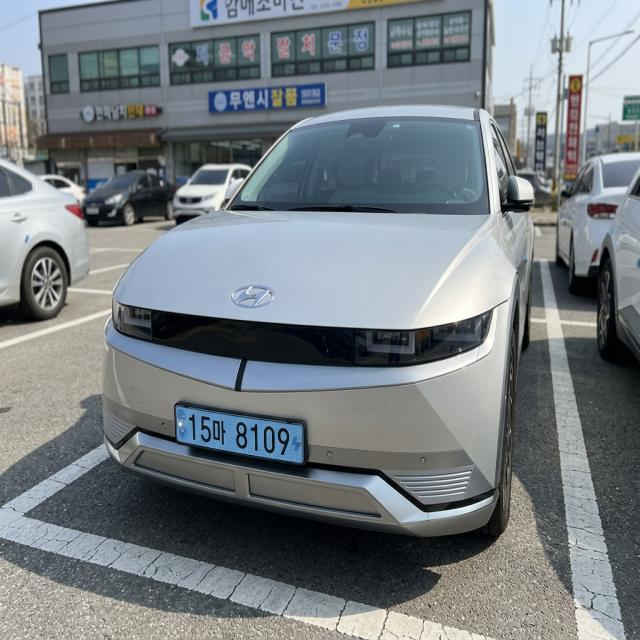car: (161, 396, 323, 476)
carev: (290, 419, 305, 463), (177, 404, 189, 446)
